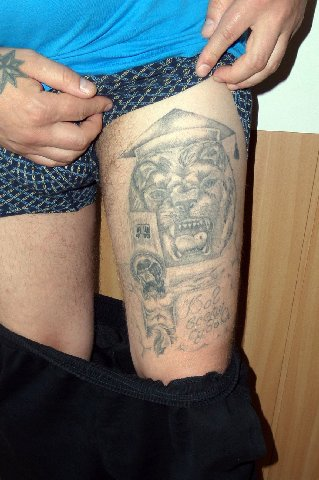tatu8_kot: (113, 124, 249, 276)
